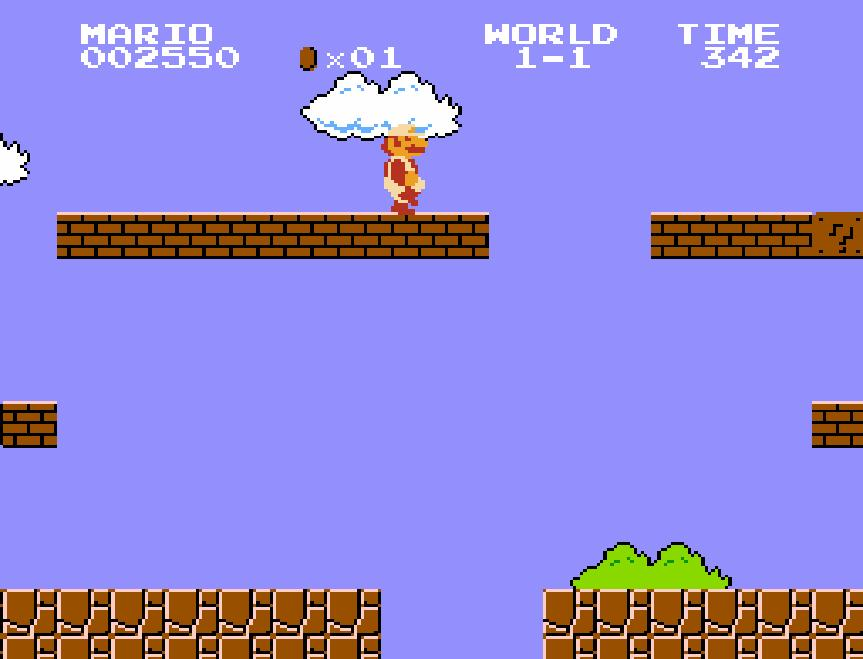fire_mario: (376, 118, 434, 216)
